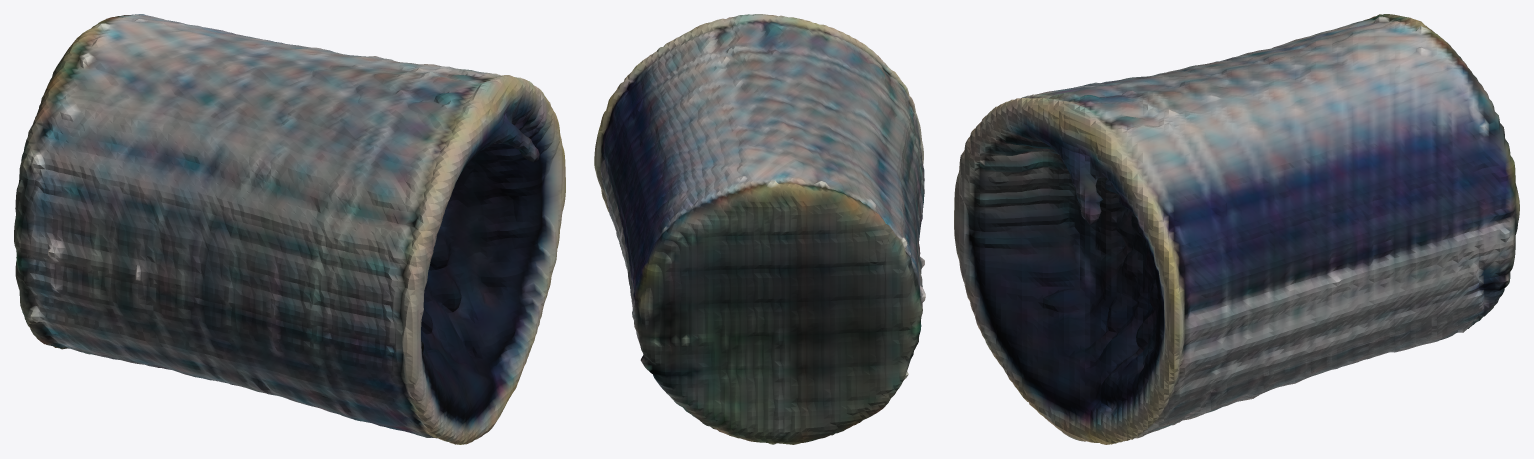
The picture shows the model from 3 angles, left to right: view 1: azimuth 30°, elevation 25°; view 2: azimuth 150°, elevation 25°; view 3: azimuth 270°, elevation 25°; orthographic projection. The views are drawn at different scales.
Bounding box in the file's own units: 0.6785 × 0.4738 × 0.7354.
